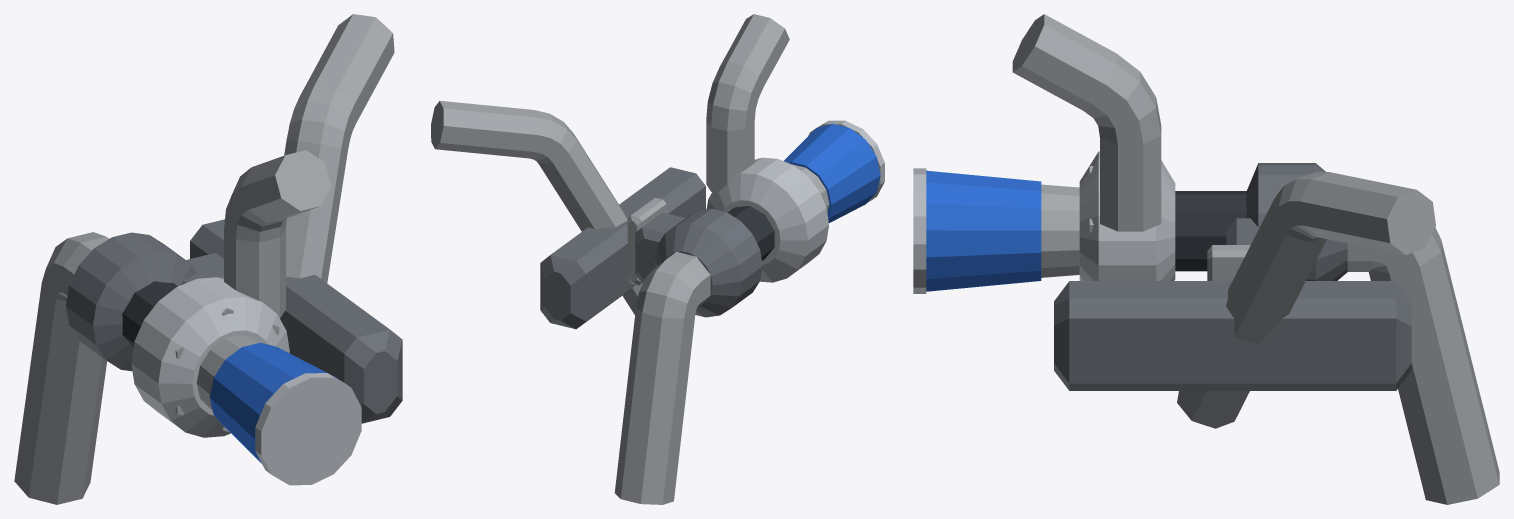
Rendered from brute_500.glb.
3 renders of one model, left to right at view 1: azimuth 30°, elevation 25°; view 2: azimuth 150°, elevation 25°; view 3: azimuth 270°, elevation 25°, orthographic. The views are drawn at different scales.
Visible parts, largest first — view 1: model; view 2: model; view 3: model.
Boxes of the visible parts, x1,y1,x2,y2 form: model: (14,14,402,504); model: (431,14,884,504); model: (913,14,1499,504).
Bounding box in the file's own units: 0.3582 × 0.4302 × 0.4588.
2 materials, 1 textured.
